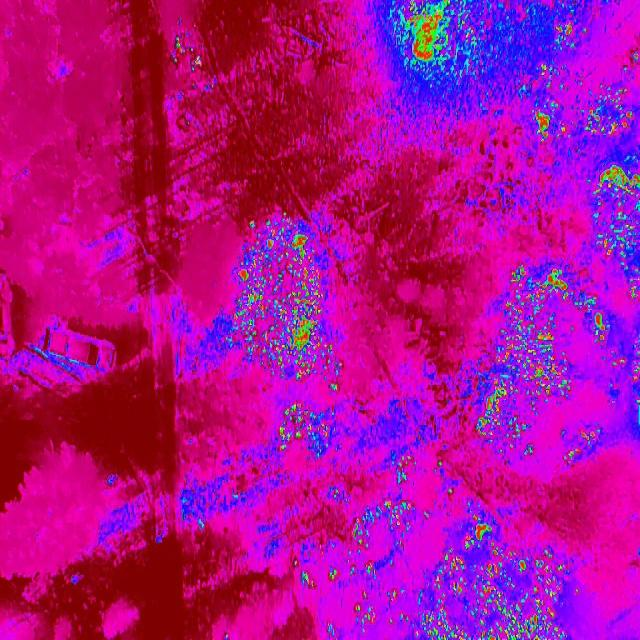fire: (234, 216, 346, 396), (425, 520, 572, 640), (479, 265, 570, 455), (383, 0, 497, 85), (592, 161, 640, 259), (341, 498, 416, 552), (524, 51, 570, 135), (279, 404, 340, 458), (584, 87, 636, 142), (561, 422, 605, 468), (576, 289, 608, 351), (554, 20, 591, 55), (298, 564, 313, 591), (328, 564, 341, 585)
